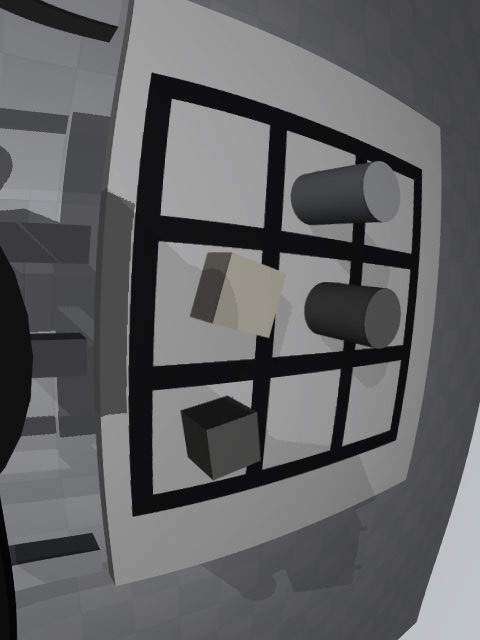can: (291, 161, 400, 225)
cube: (180, 396, 261, 480)
cylinder: (304, 282, 401, 349)
foam: (190, 252, 287, 338)
